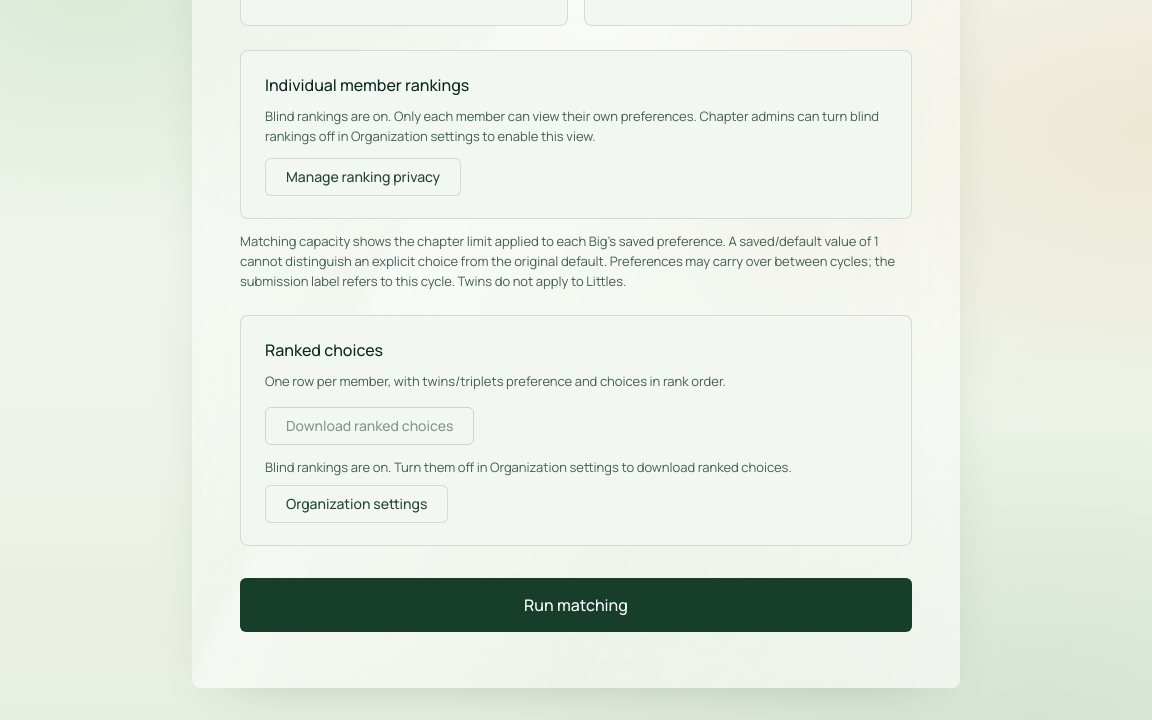
Test: matching network failure is uncertain and releases the button without claiming success
The width and height of the screenshot is (1152, 720).
(page scrolled)
Click the button "Run matching": coordinates (576, 606) top-left (240, 578), bottom-right (912, 632)
(page scrolled)
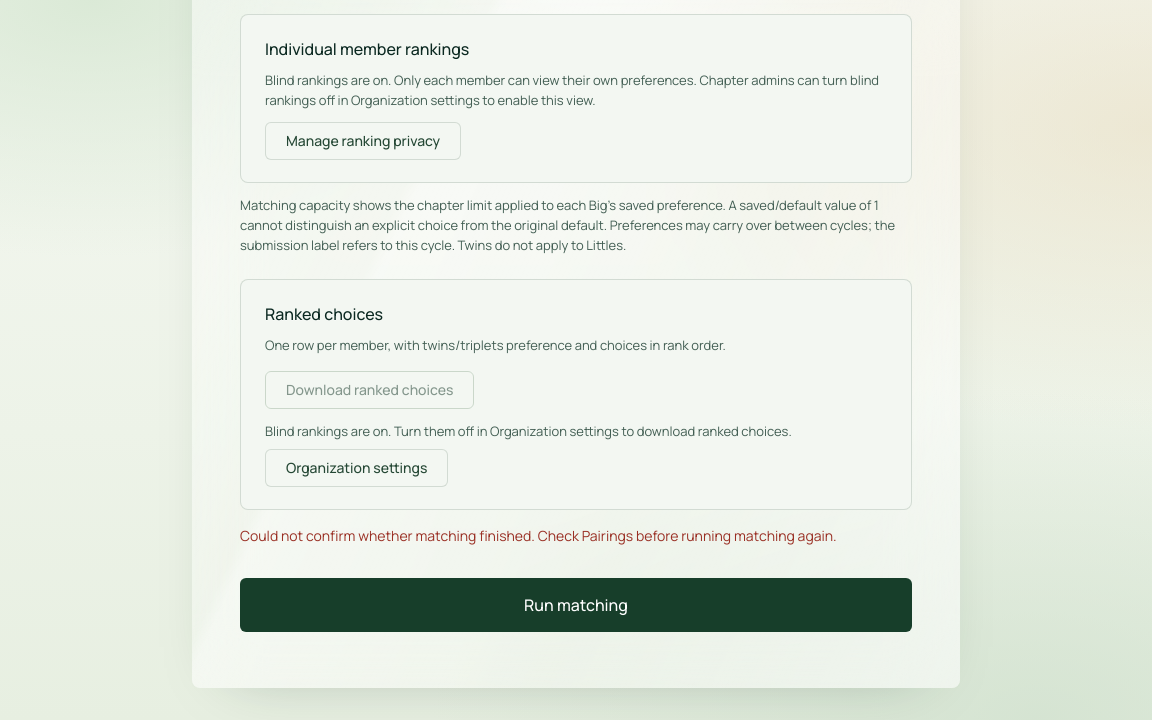
Result: the message shows "Check Pairings before running matching again" at top-left (240, 526), bottom-right (837, 546)
